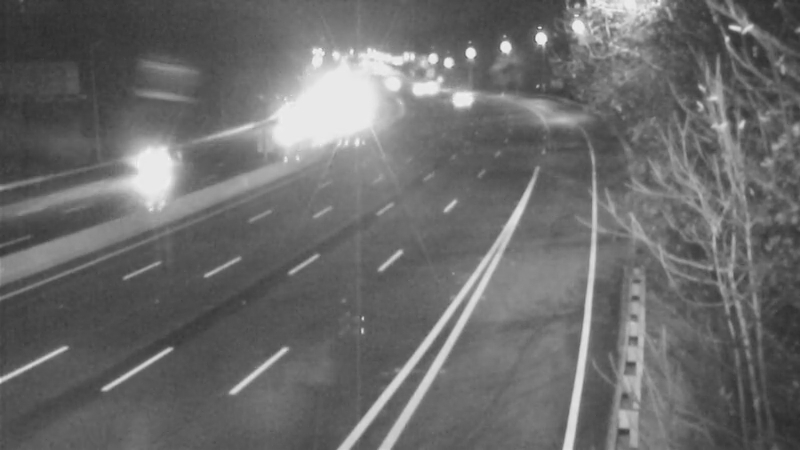vehicle: (117, 128, 197, 208), (401, 60, 451, 110), (430, 72, 480, 122)
